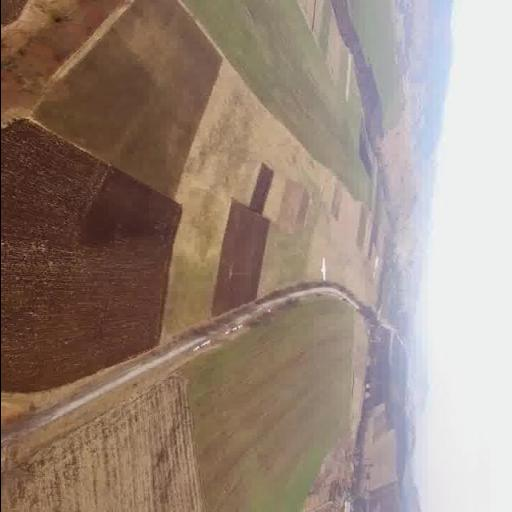uav: (312, 254, 338, 285)
